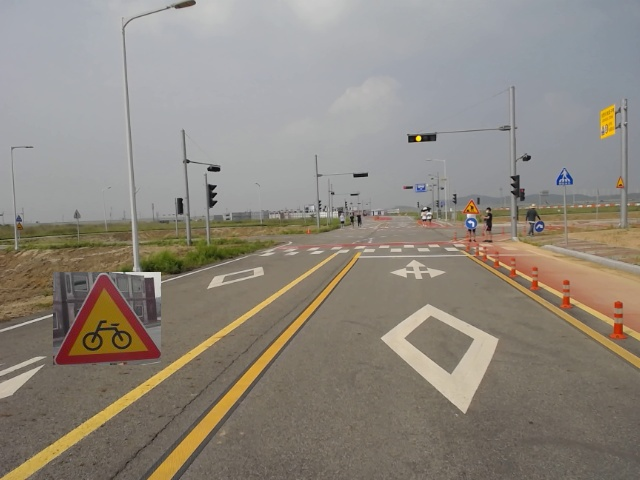orange_4: (406, 134, 438, 144)
